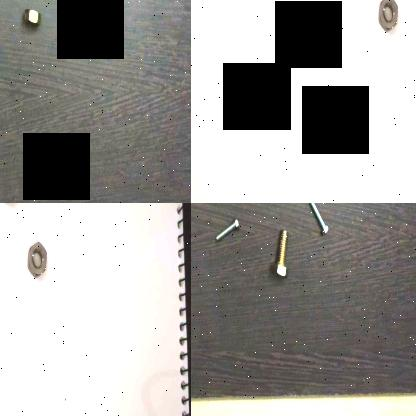Bolts: (271, 228, 291, 284), (213, 214, 239, 252), (307, 203, 329, 238)
NUTS: (26, 234, 51, 280), (377, 0, 402, 34), (22, 1, 46, 36)
